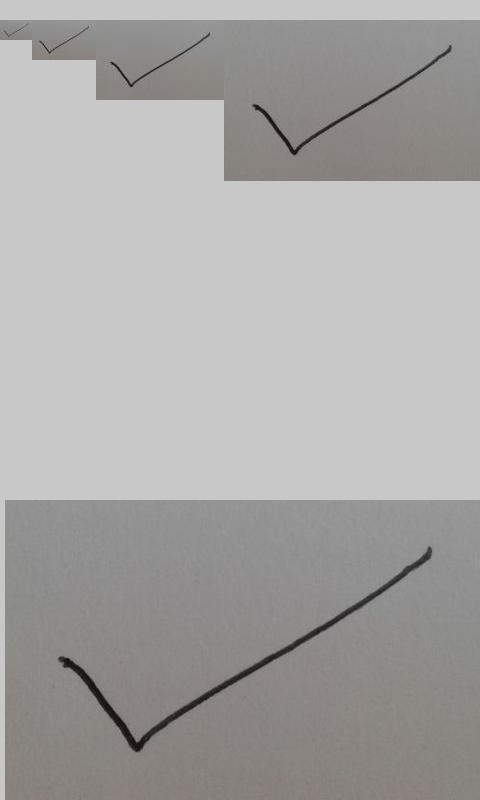check_box: (59, 548, 433, 755), (252, 45, 452, 156), (110, 31, 210, 88), (39, 25, 89, 53), (3, 23, 27, 37)
